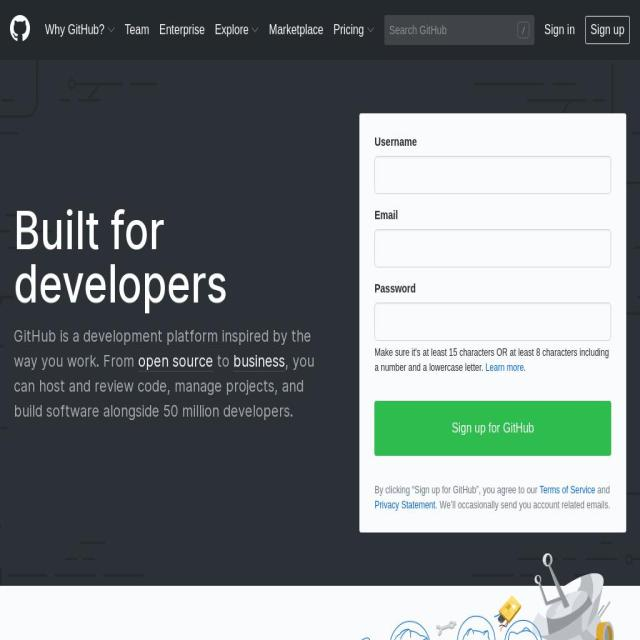button: (374, 401, 612, 456), (268, 7, 324, 53), (159, 7, 205, 53), (138, 350, 213, 372), (584, 16, 630, 44), (124, 7, 150, 53), (233, 350, 285, 372), (544, 20, 575, 40), (0, 0, 10, 40)
field: (374, 229, 612, 268), (374, 302, 612, 341), (374, 156, 612, 194), (383, 15, 518, 45)
heading: (14, 202, 330, 310)
image: (334, 552, 615, 640), (517, 22, 529, 38), (107, 27, 115, 32), (252, 27, 260, 32), (366, 27, 374, 32)
label: (374, 133, 612, 151), (374, 280, 612, 298), (374, 207, 612, 224)
link: (374, 499, 436, 511), (540, 484, 596, 496), (485, 362, 524, 373)
text: (14, 350, 314, 421), (14, 325, 311, 371), (374, 347, 610, 373), (439, 499, 612, 511), (374, 484, 540, 496), (45, 22, 107, 36), (408, 362, 482, 373), (423, 347, 495, 358), (510, 347, 578, 358), (374, 347, 424, 358), (214, 22, 252, 36), (333, 22, 367, 36), (213, 350, 233, 371), (595, 484, 611, 496), (494, 347, 510, 358), (435, 499, 439, 511), (482, 362, 486, 373), (524, 362, 526, 373)
